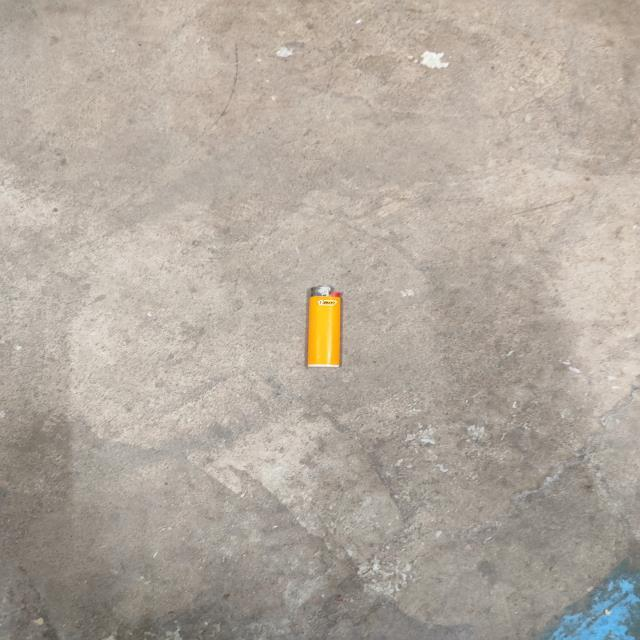lighter: (306, 286, 340, 367)
